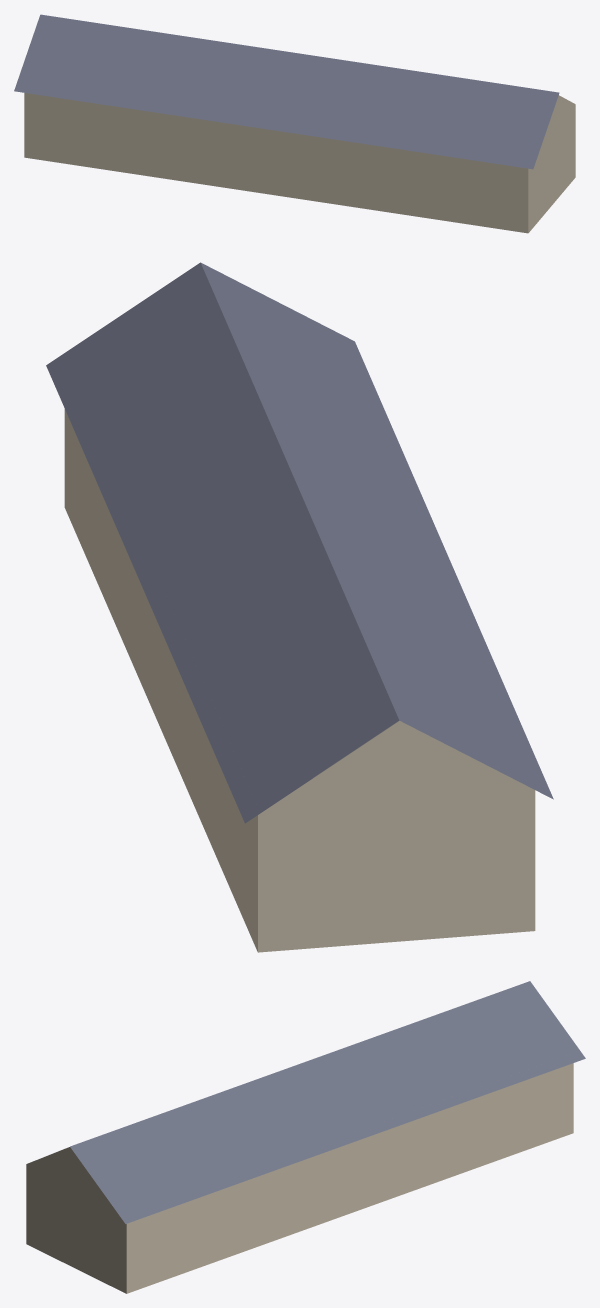
The picture shows the model from 3 angles, top to bottom: view 1: azimuth 30°, elevation 25°; view 2: azimuth 150°, elevation 25°; view 3: azimuth 270°, elevation 25°; orthographic projection. The views are drawn at different scales.
Parts seen in each view (by area): view 1: tuile; view 2: tuile; view 3: tuile.
Boxes of the visible parts, x1,y1,x2,y2 form: tuile: (14,14,575,233); tuile: (46,262,553,952); tuile: (26,981,585,1293).
Bounding box in the file's own units: 20.87 × 5.5 × 22.82.
